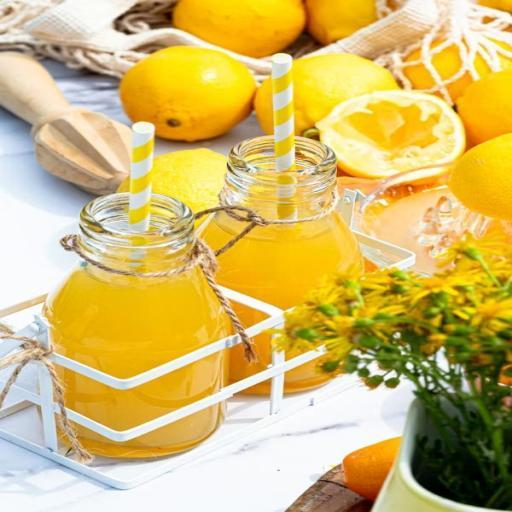bottle: (34, 179, 237, 467)
